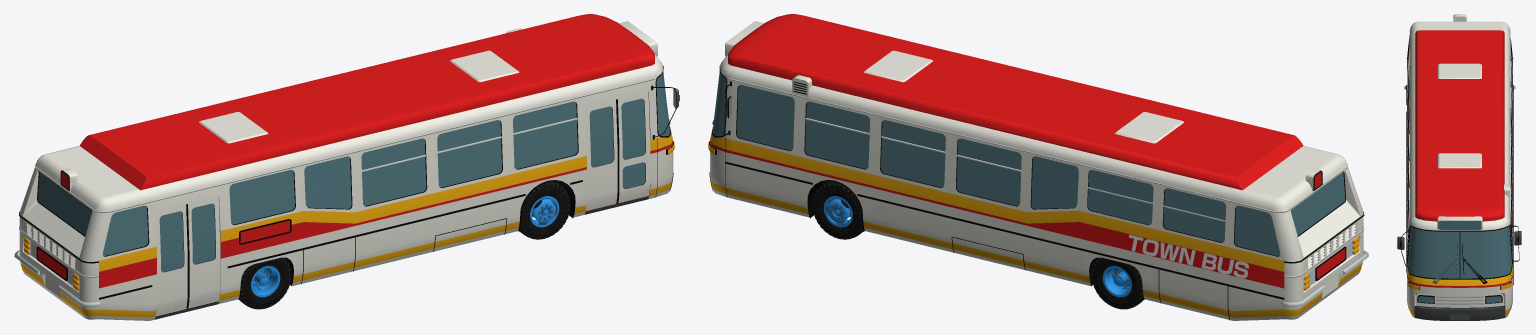
Rendered from gen bus 2.obj.
3 views of the same model, side by side, from view 1: azimuth 30°, elevation 25°; view 2: azimuth 150°, elevation 25°; view 3: azimuth 270°, elevation 25° (orthographic). The views are drawn at different scales.
Visible parts, largest first — view 1: Object, Object6, cylinder31.000_cylinder31.003, Object121, Object3111, Object31, Object311, Object3, Object2, Object1, Object7; view 2: Object, Object6, cylinder31.000_cylinder31.0031, Object1211, Object2, Object15; view 3: Object, Object6, Object2, box1, Object512111, Object15, Object19, Object1911, Object13, Object5121112.
Boxes of the visible parts, x1,y1,x2,y2 form: Object: [14, 14, 674, 320]; Object6: [38, 72, 670, 271]; cylinder31.000_cylinder31.003: [519, 181, 570, 239]; Object121: [238, 257, 291, 309]; Object3111: [188, 197, 220, 307]; Object31: [585, 99, 617, 210]; Object311: [155, 204, 187, 315]; Object3: [618, 91, 650, 202]; Object2: [450, 50, 519, 82]; Object1: [240, 220, 289, 243]; Object7: [22, 254, 54, 295]; Object: [709, 14, 1368, 320]; Object6: [712, 72, 1345, 256]; cylinder31.000_cylinder31.0031: [812, 181, 863, 239]; Object1211: [1091, 257, 1144, 309]; Object2: [864, 50, 932, 82]; Object15: [857, 194, 1284, 299]; Object: [1404, 14, 1515, 320]; Object6: [1408, 48, 1511, 278]; Object2: [1438, 153, 1481, 168]; box1: [1437, 216, 1482, 230]; Object512111: [1510, 224, 1521, 261]; Object15: [1513, 85, 1513, 237]; Object19: [1432, 243, 1458, 283]; Object1911: [1462, 243, 1487, 283]; Object13: [1436, 302, 1483, 304]; Object5121112: [1397, 236, 1404, 249].
Bounding box in the file's own units: 131 × 32.36 × 31.86.
Materials: 20 (3 with a texture image).
